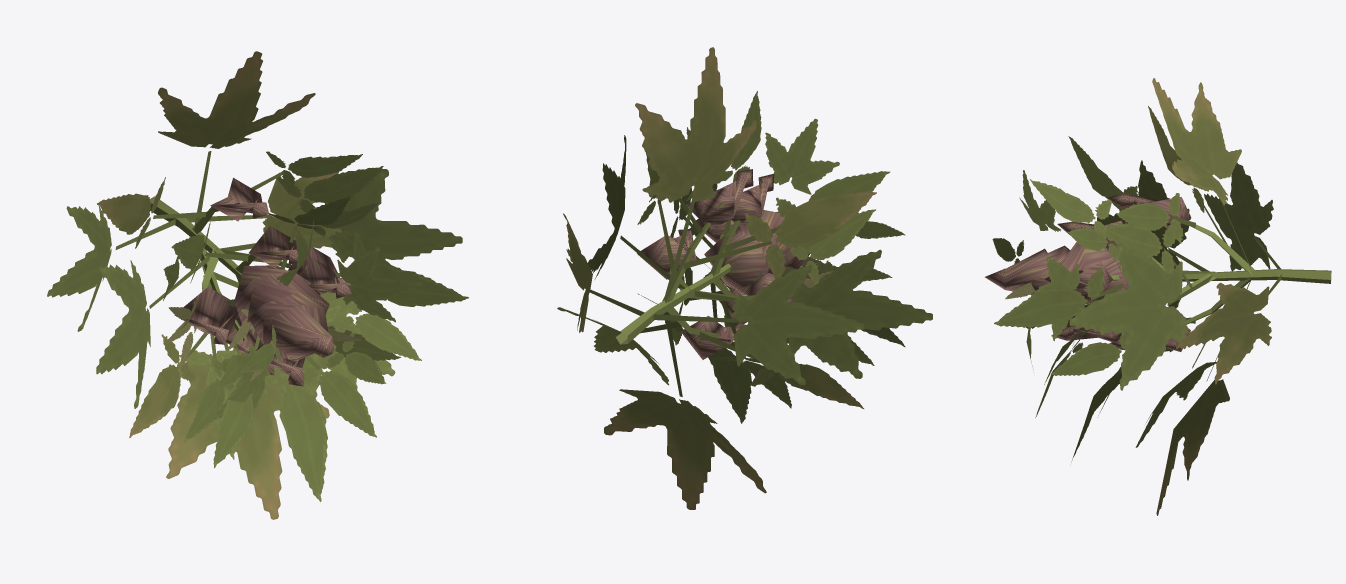
The model's file is p_purple_auto_ripe_c1_cards.obj.
The picture shows the model from 3 angles, left to right: view 1: azimuth 30°, elevation 25°; view 2: azimuth 150°, elevation 25°; view 3: azimuth 270°, elevation 25°; orthographic projection. The views are drawn at different scales.
Size of the model in its own units: 1.2 by 1.5 by 0.947.
Materials: 1 (1 with a texture image).
